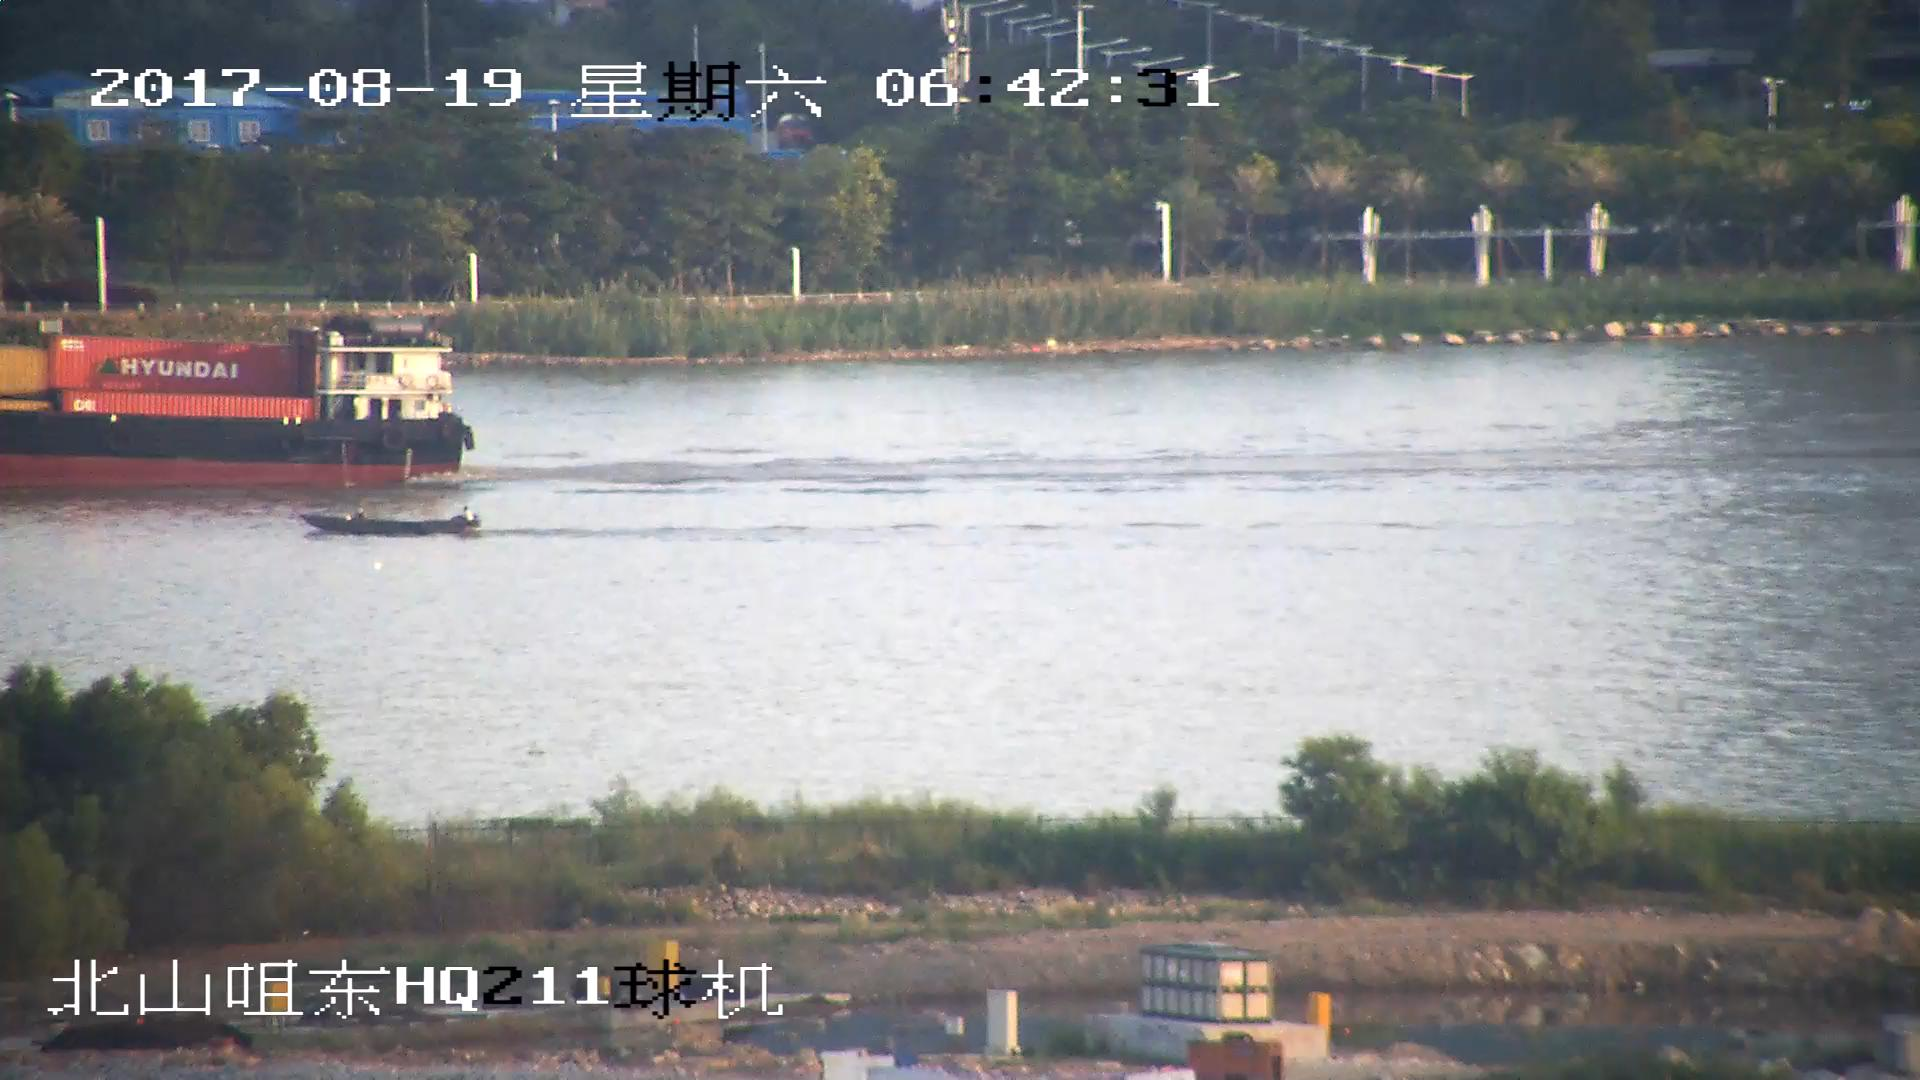container ship: (1, 310, 471, 492)
fishing boat: (301, 507, 480, 539)
